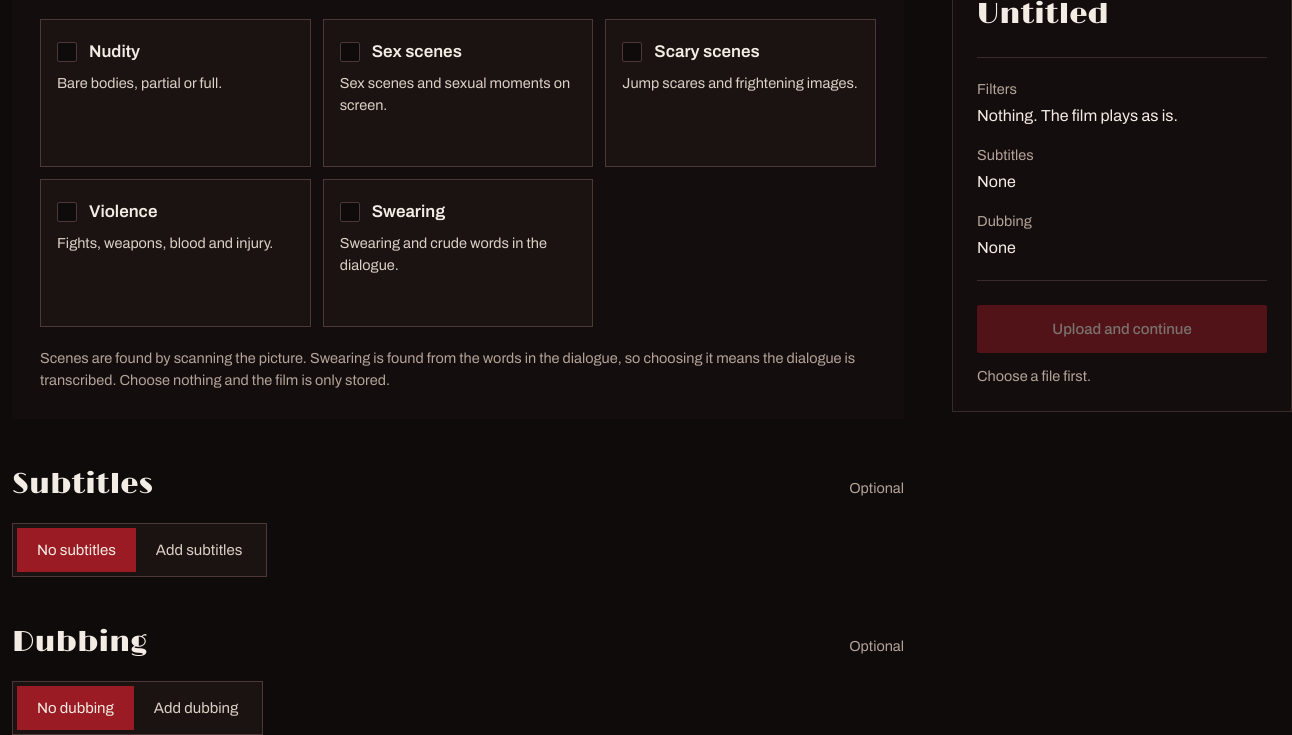
Add a title: dubbing › is independent of subtitles: the same language can be chosen for both
(page scrolled)
Expected: the radio button labelled "Add dubbing" is enabled, [134,686,258,730]
Click the radio button labelled "Add subtitles" at (199, 550), box [136,528,262,572]
(page scrolled)
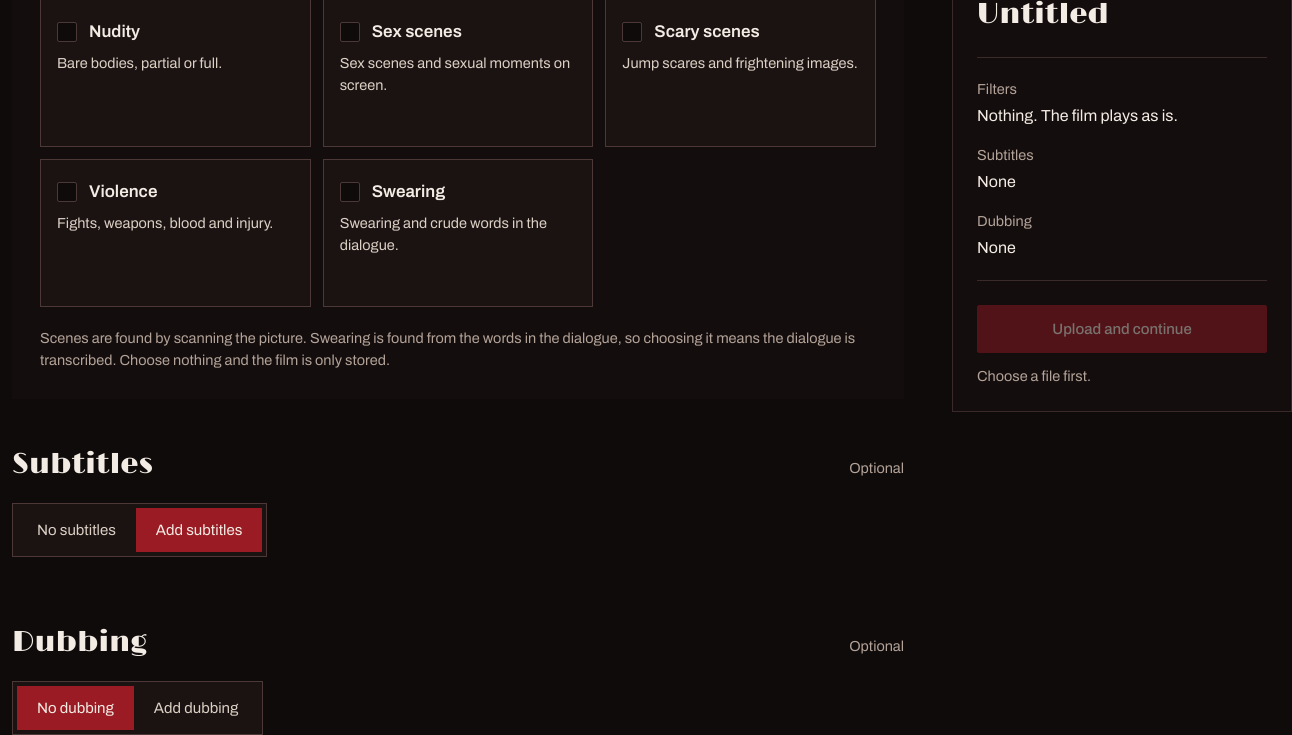
Click the radio button labelled "Add dubbing" at (196, 708), box [134,686,258,730]
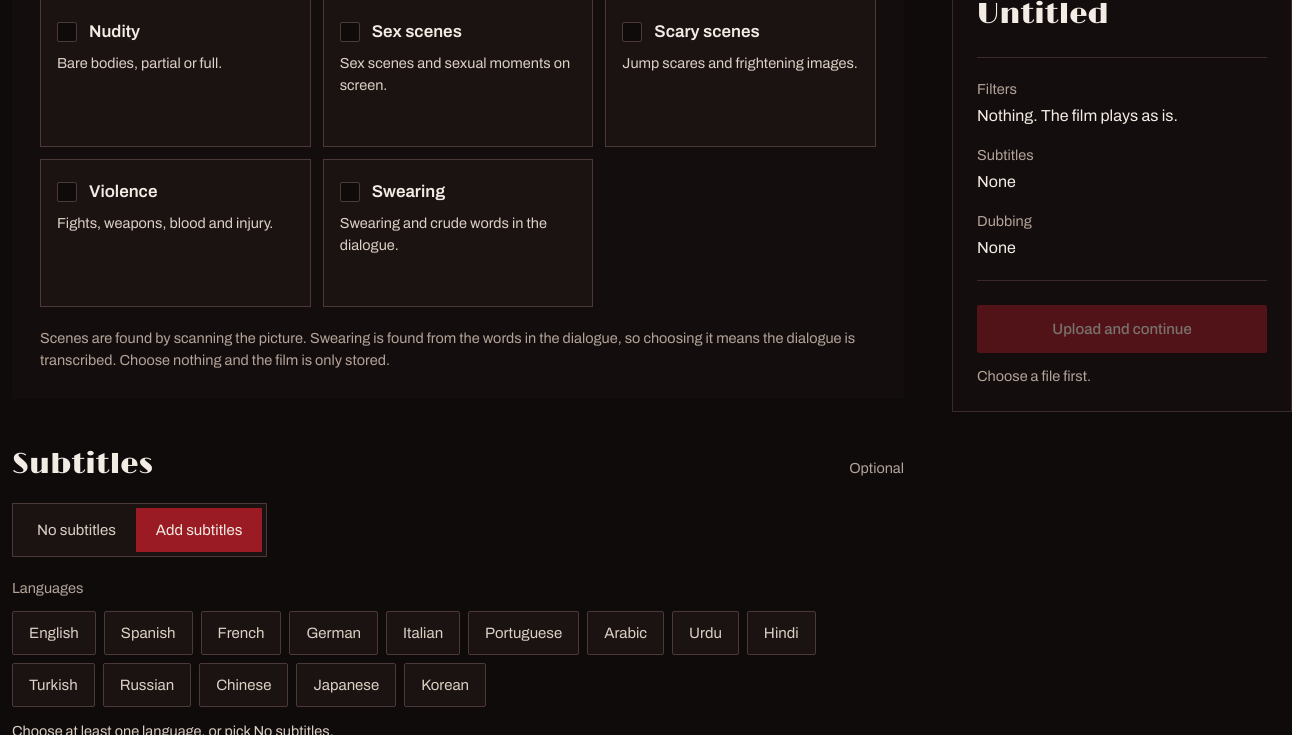
Click the button "Arabic" at (626, 633), box [587,611,664,655]
(page scrolled)
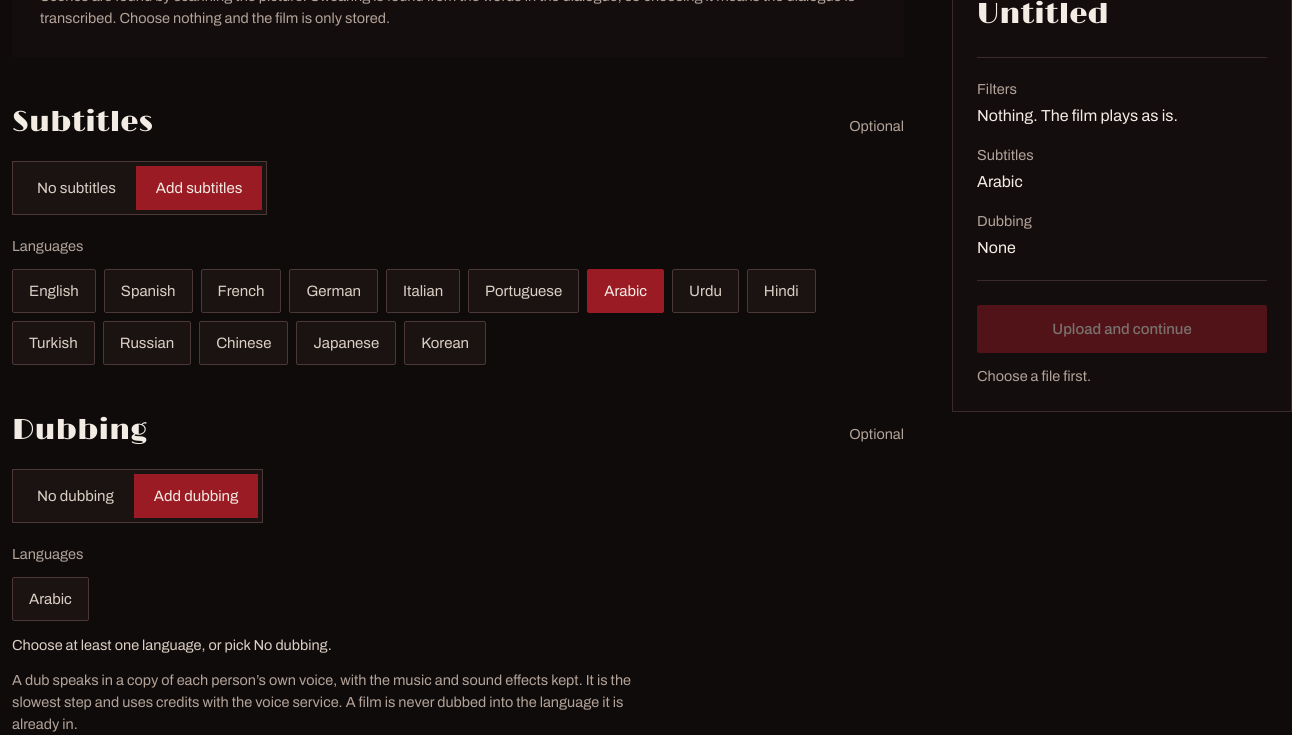
Click the 2nd button "Arabic" at (50, 599), box [12,577,89,621]
(page scrolled)
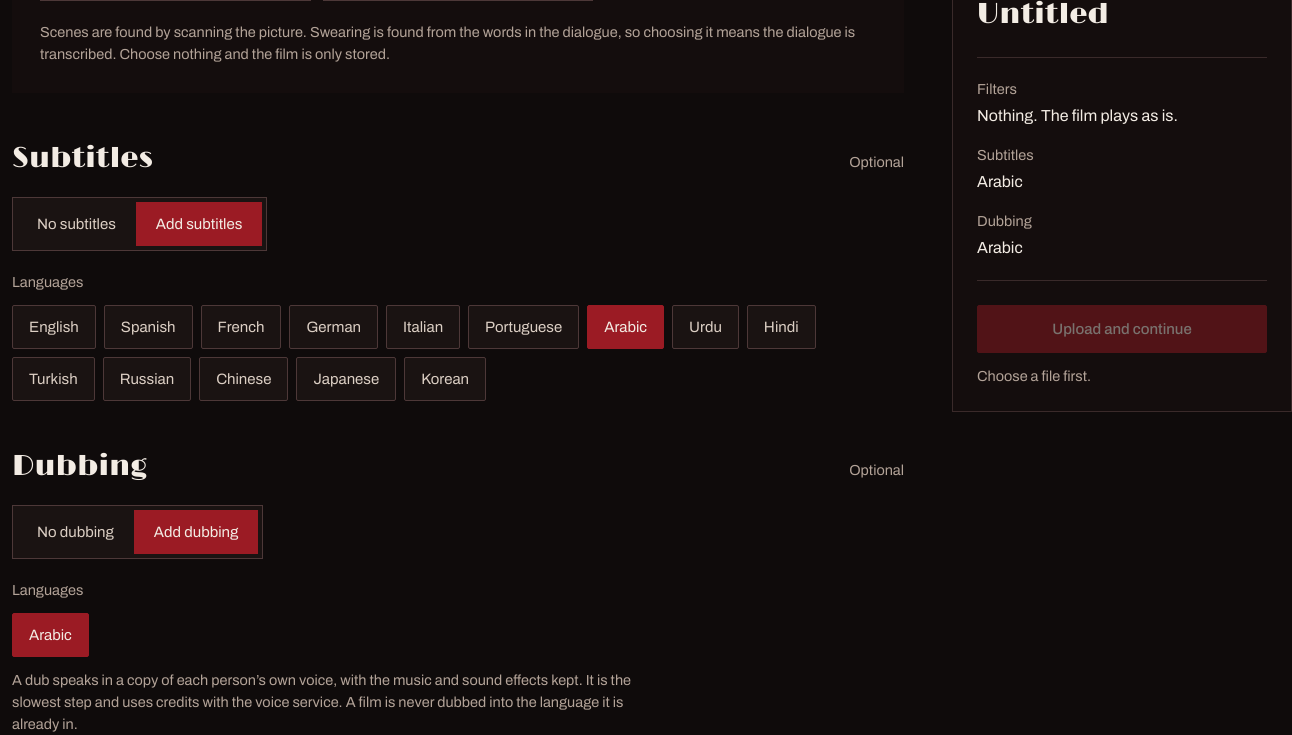
Expected: the 2nd text "Arabic" is shown, [977,239,1023,256]
